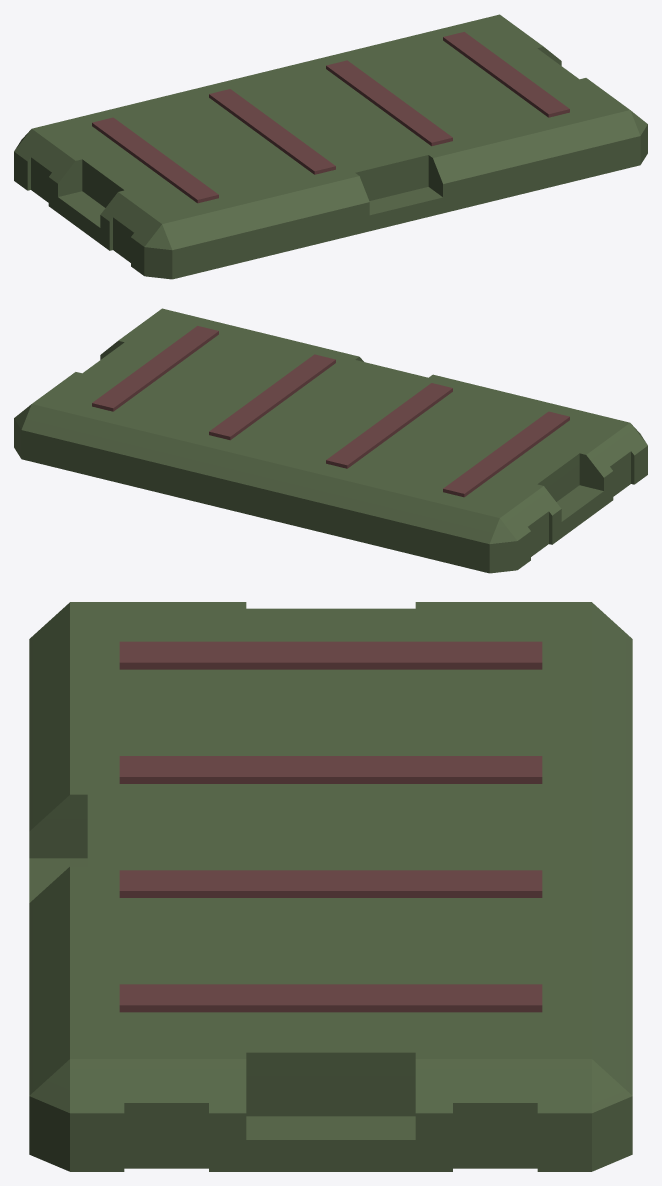
Rendered from AmoBox_01_2.glb.
The picture shows the model from 3 angles, top to bottom: view 1: azimuth 30°, elevation 25°; view 2: azimuth 150°, elevation 25°; view 3: azimuth 270°, elevation 25°; orthographic projection. The views are drawn at different scales.
Visible parts, largest first — view 1: AmoBox_01_2; view 2: AmoBox_01_2; view 3: AmoBox_01_2.
Boxes of the visible parts, x1,y1,x2,y2 form: AmoBox_01_2: (14,14,647,279); AmoBox_01_2: (14,308,647,573); AmoBox_01_2: (29,602,632,1171).
Bounding box in the file's own units: 0.9434 × 0.0918 × 0.4897.
1 material, 1 textured.
